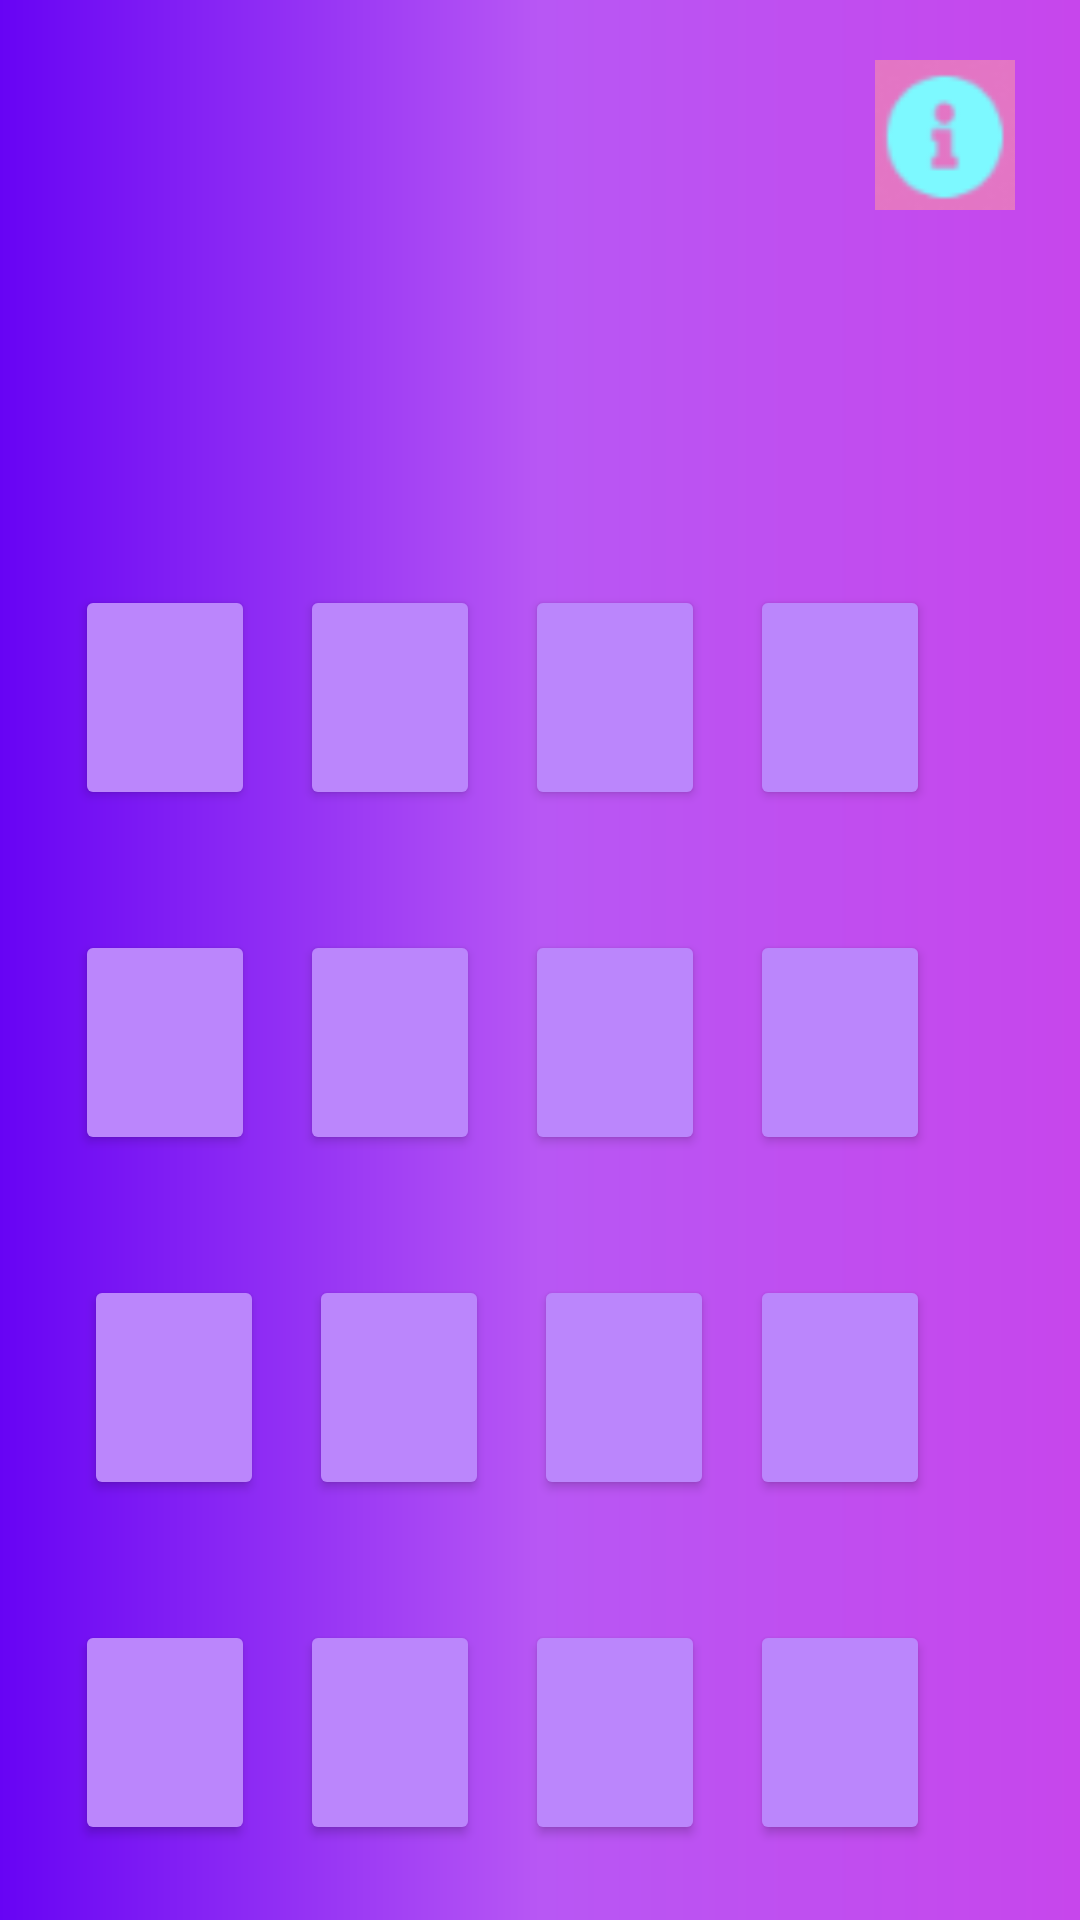

Icon bounding boxes for this 1080w x 1920h phone screenshot, format bbox=(x1, y1, x2, y2):
info: bbox=(875, 60, 1015, 210)
